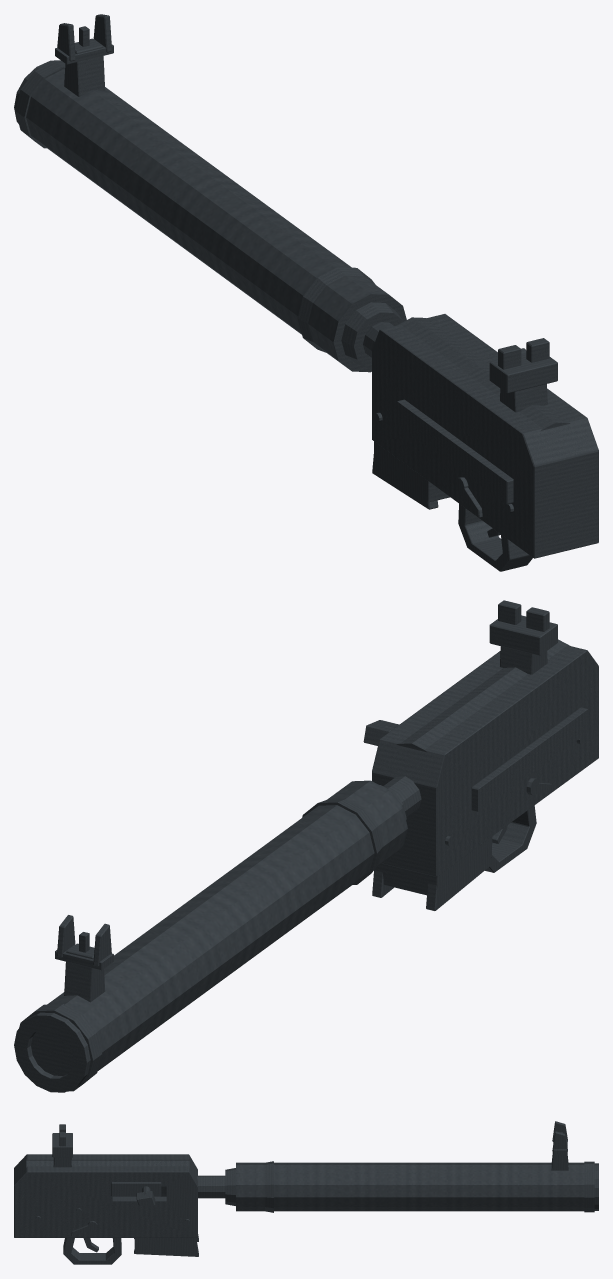
Rendered from weapon_vss.glb.
3 views of the same model, one above another, from view 1: azimuth 30°, elevation 25°; view 2: azimuth 150°, elevation 25°; view 3: azimuth 270°, elevation 25° (orthographic). The views are drawn at different scales.
Visible parts, largest first — view 1: body_LOD0; view 2: body_LOD0; view 3: body_LOD0, action_LOD0.
Boxes of the visible parts, x1=… form: body_LOD0: x1=14, y1=14, x2=598, y2=571; body_LOD0: x1=14, y1=600, x2=598, y2=1092; body_LOD0: x1=14, y1=1121, x2=598, y2=1264; action_LOD0: x1=111, y1=1182, x2=161, y2=1205.
Size of what is drawn, in the model's own units: 0.145 by 0.2737 by 1.08.
1 material, 1 textured.
